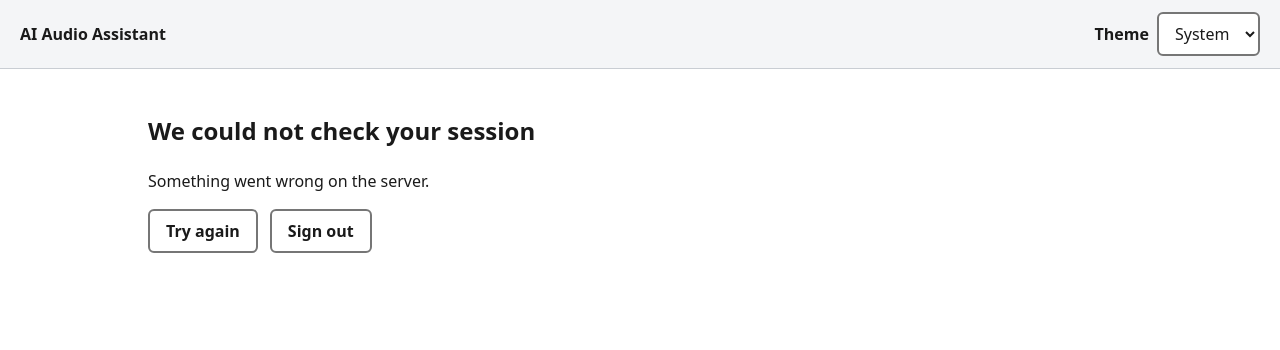
Test: while the session is being checked › offers a retry when the check fails for a reason other than a 401, and keeps the token
Expected: the heading "We could not check your session" is shown, [148,114,535,147]
Expected: the text "Something went wrong on the server." is shown, [148,170,429,192]
Click the button "Try again" at (203, 231), box [148,209,258,253]
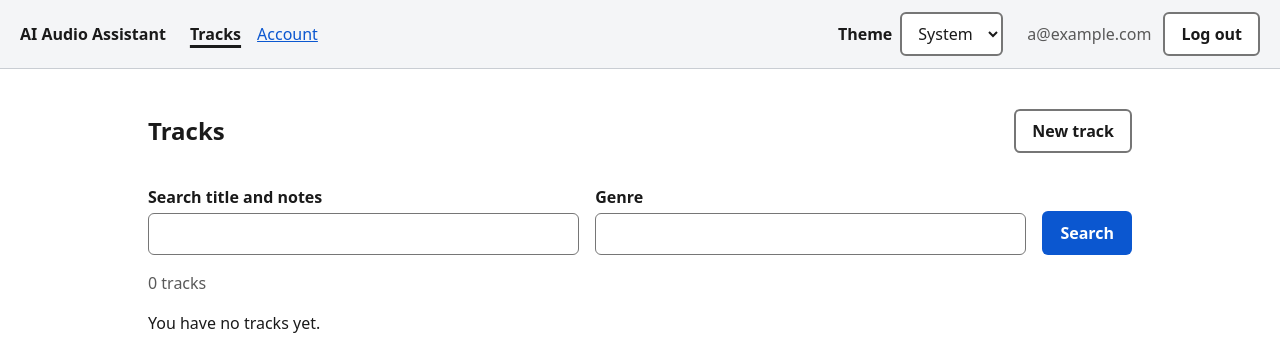
Result: the heading "Tracks" is shown at [148,113,225,149]
